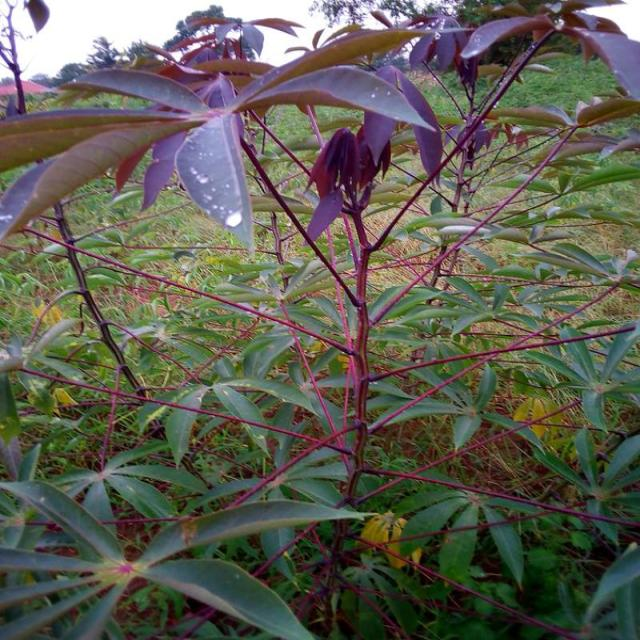cassava leaf: (2, 3, 639, 638), (1, 24, 448, 255)
